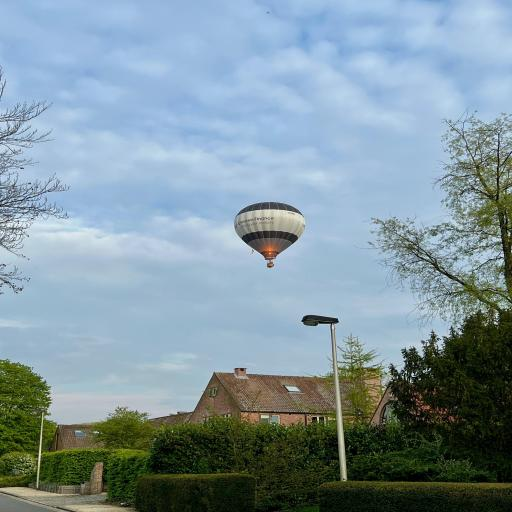hot air ballon: (234, 195, 309, 269)
